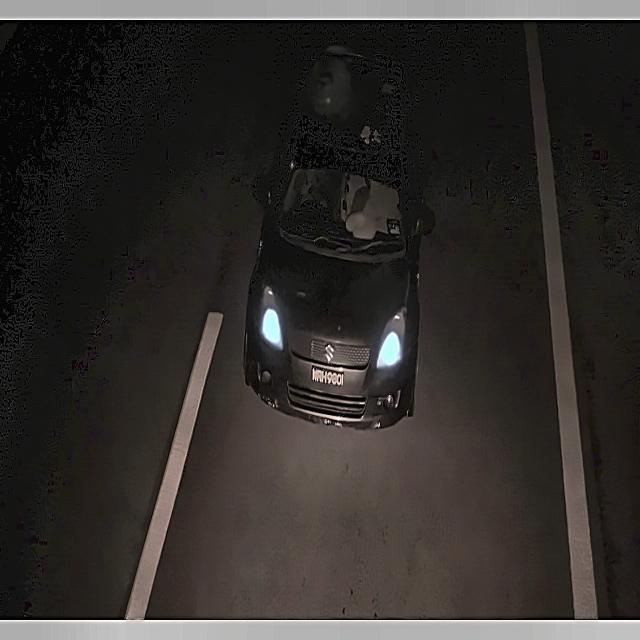car: (305, 363, 349, 392)
